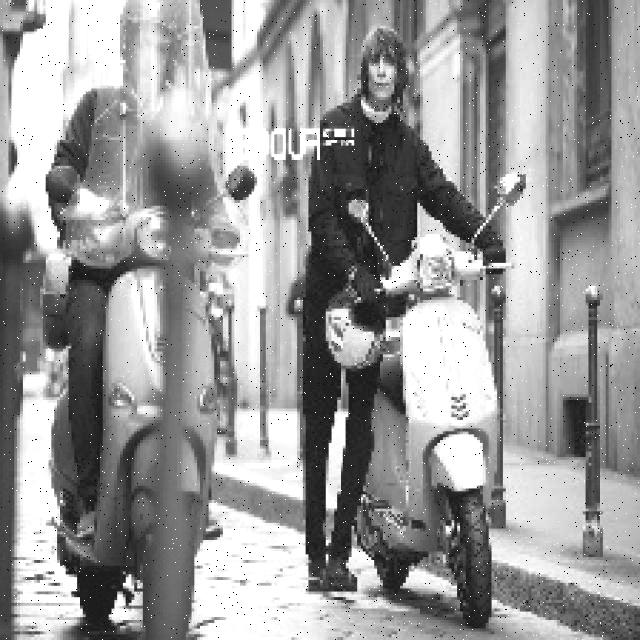Bike: (58, 203, 231, 623), (369, 252, 529, 627)
